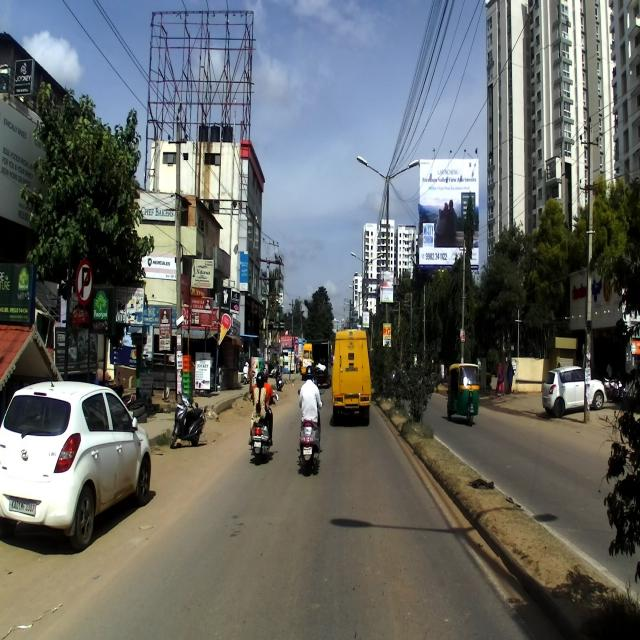Car_Hyundai: (0, 378, 151, 552)
Car_Maruti-Suzuki: (541, 365, 607, 417)
autorickshaw: (444, 358, 486, 430)
scooter: (168, 389, 211, 448), (296, 387, 324, 473), (248, 393, 278, 460)
truck: (331, 329, 372, 426)
